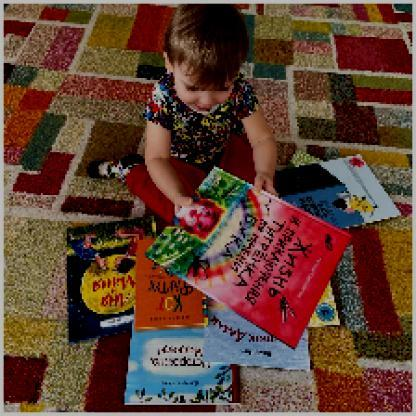child: (87, 6, 279, 220)
